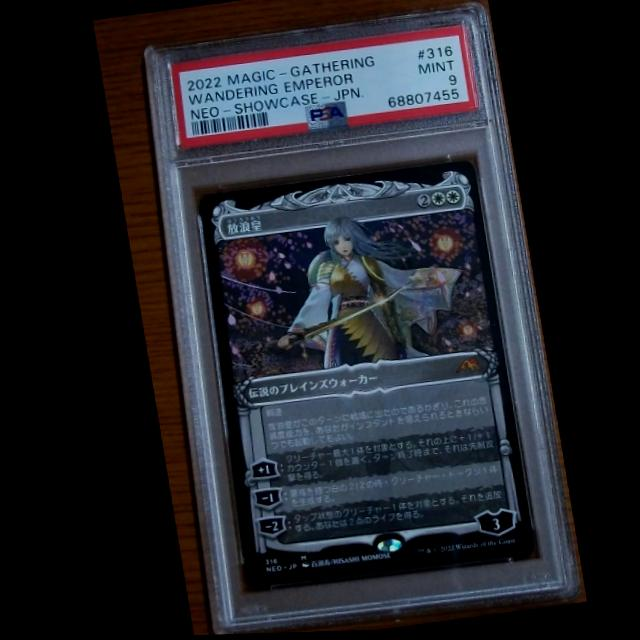card: (194, 161, 528, 588)
psa_label: (167, 26, 475, 149)
psa_slab: (139, 1, 574, 636)
